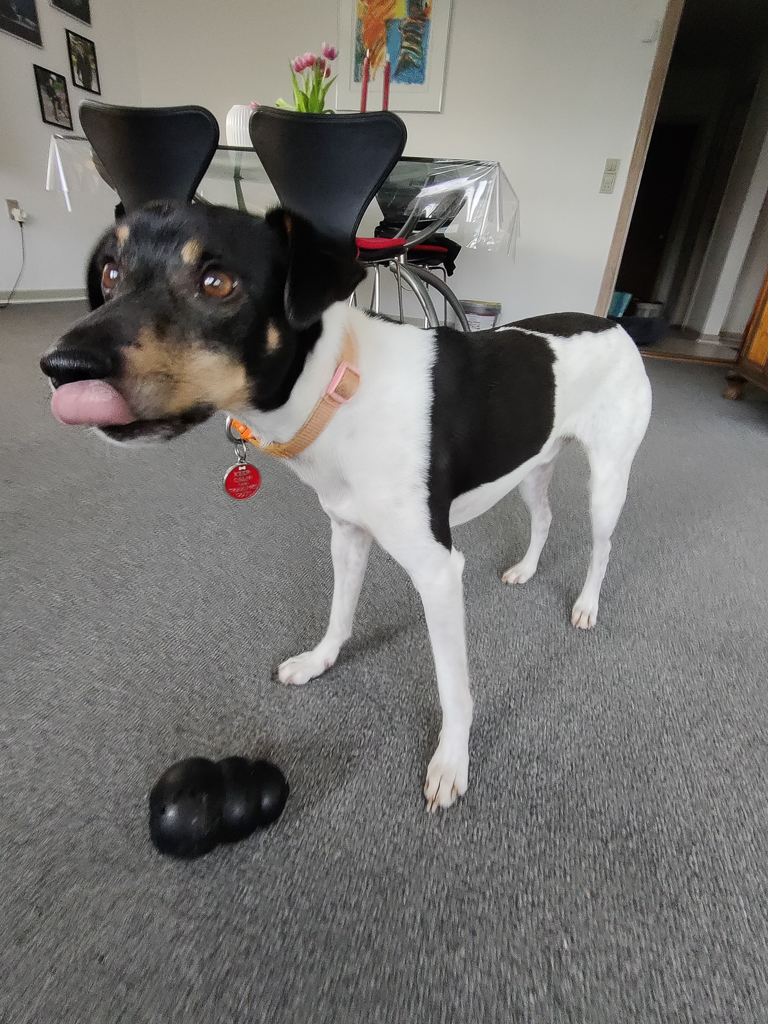Dog: (26, 184, 682, 824)
